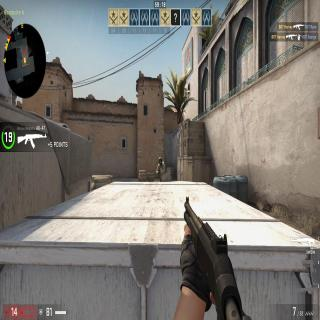CT-Body: (156, 157, 168, 182)
CT-Head: (158, 158, 162, 165)
